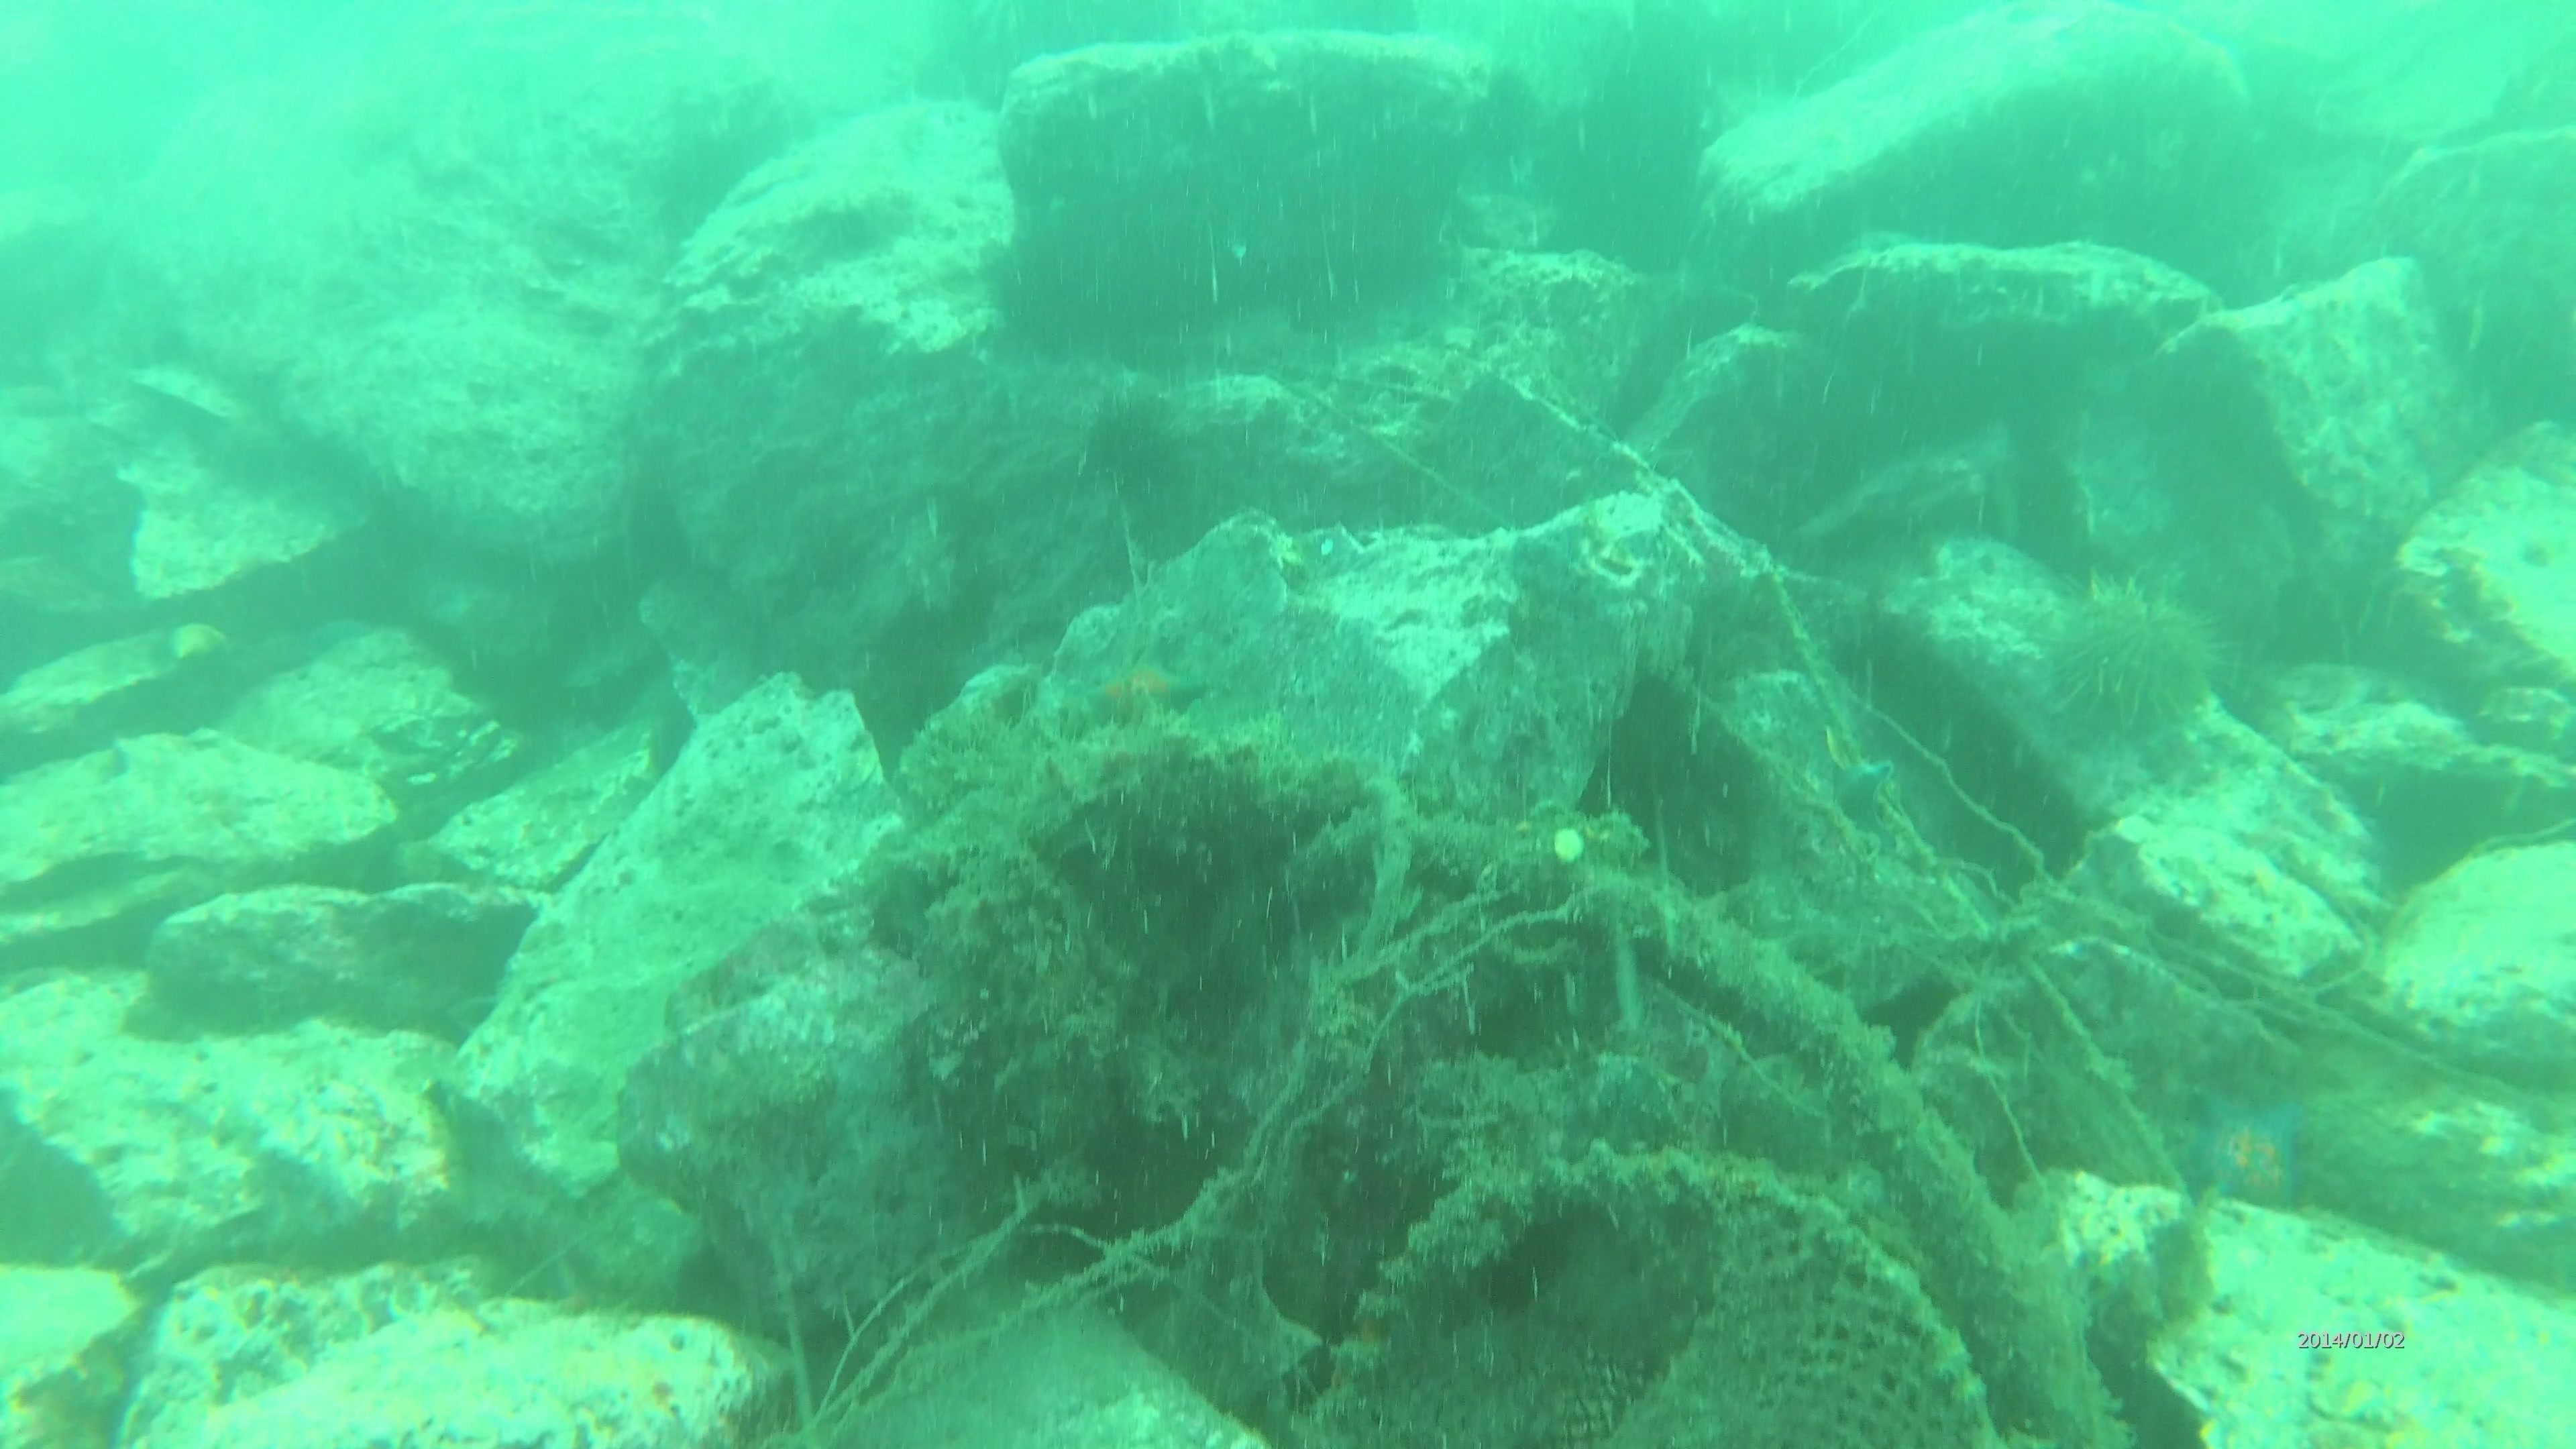echinus: (2031, 566, 2231, 748), (1072, 389, 1192, 511)
starfish: (2176, 1077, 2321, 1217), (1069, 635, 1210, 736), (1806, 743, 1907, 863)
